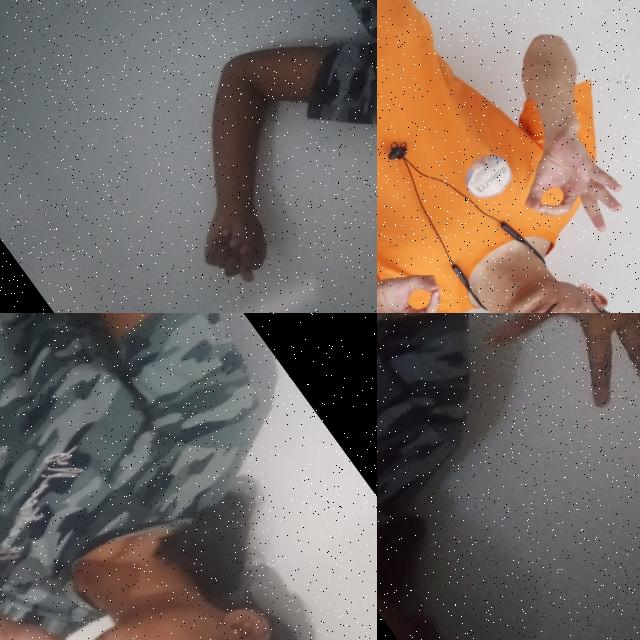Dulya: (166, 164, 306, 308)
Fist Mouth: (0, 476, 330, 640)
Moutza: (448, 313, 640, 465)
Okay: (495, 113, 640, 271), (377, 241, 485, 313)
